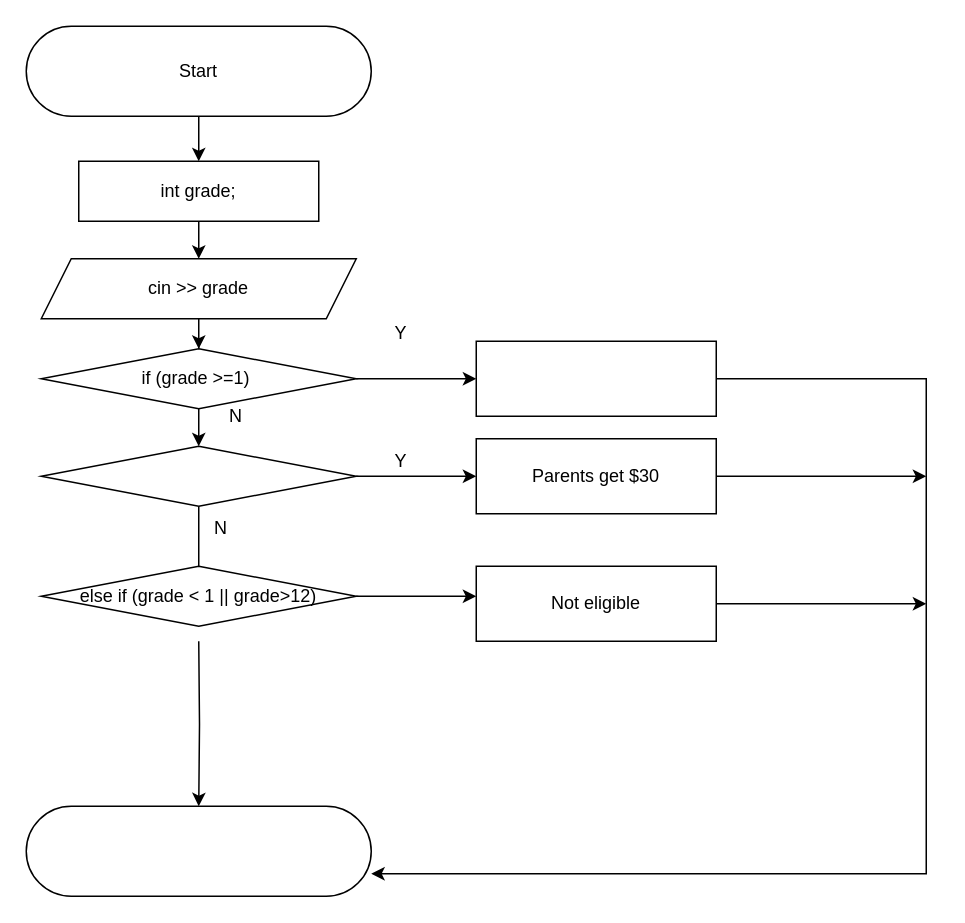
This 965x923 diagram has some shape labels left out. Here are the shapes that lost their labels. From the top down, the centre of each, then its label:
the point at 595,378: Parents get $20
the point at 198,475: else if (grade > 7)
the point at 198,850: end
